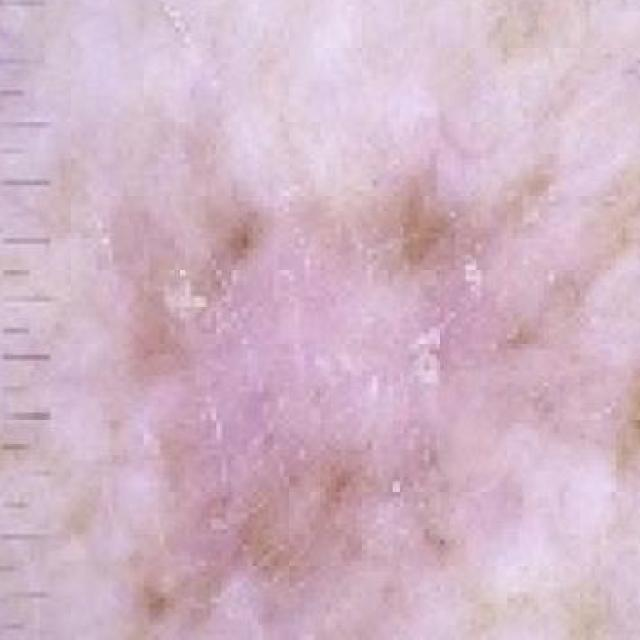AKIEC: (40, 79, 640, 640)
